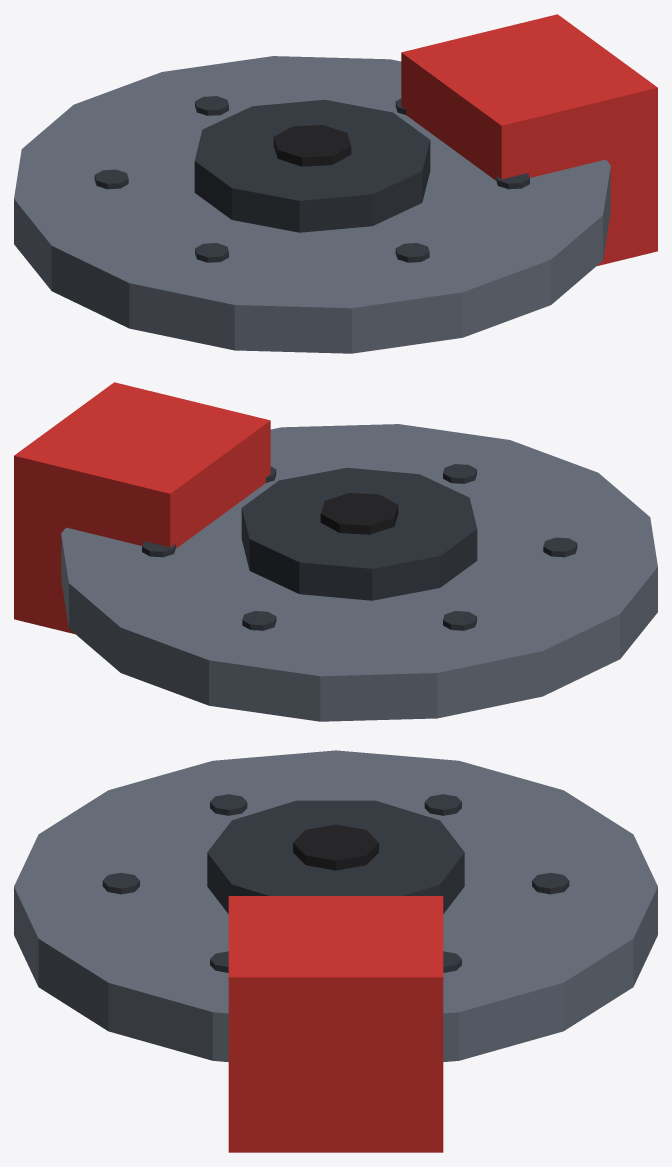
Rendered from prop_lift_brake_assembly.glb.
The picture shows the model from 3 angles, top to bottom: view 1: azimuth 30°, elevation 25°; view 2: azimuth 150°, elevation 25°; view 3: azimuth 270°, elevation 25°; orthographic projection. The views are drawn at different scales.
Visible parts, largest first — view 1: prop_lift_brake_assembly; view 2: prop_lift_brake_assembly; view 3: prop_lift_brake_assembly.
Boxes of the visible parts, left/top/right/bottom form: prop_lift_brake_assembly: left=14, top=14, right=657, bottom=353; prop_lift_brake_assembly: left=14, top=382, right=657, bottom=721; prop_lift_brake_assembly: left=14, top=750, right=657, bottom=1152.
Size of the model in its own units: 0.64 by 0.18 by 0.6.
Materials: 1 (1 with a texture image).
